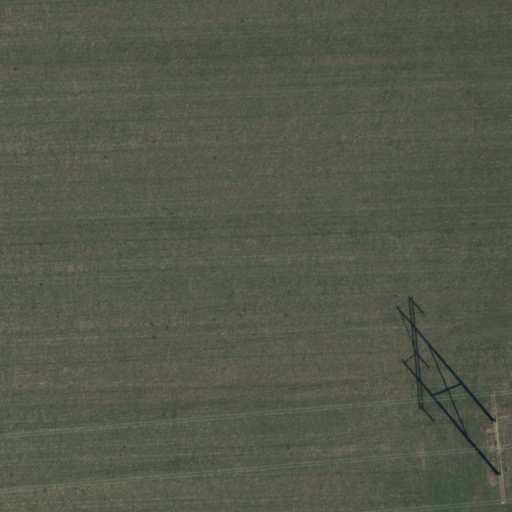TT: (485, 386, 509, 507)
